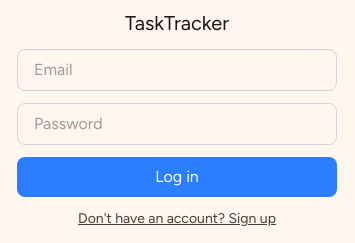
AuthForm › disables the button while the request is in flight
The image size is (355, 243).
Type "HSY@example.com" into the field with placeholder "Email" at (177, 70), box [17,49,337,91]
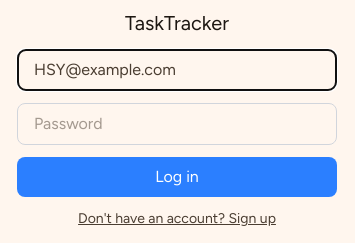
Type "password123" into the password field with placeholder "Password" at (177, 124), box [17,103,337,145]
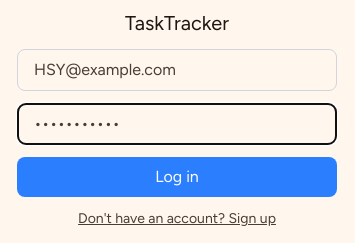
Click the button "Log in" at (177, 177), box [17,157,337,197]
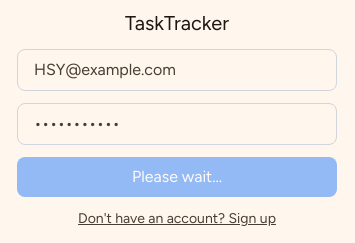
Result: the button "Please wait…" is disabled at [17,157,337,197]
